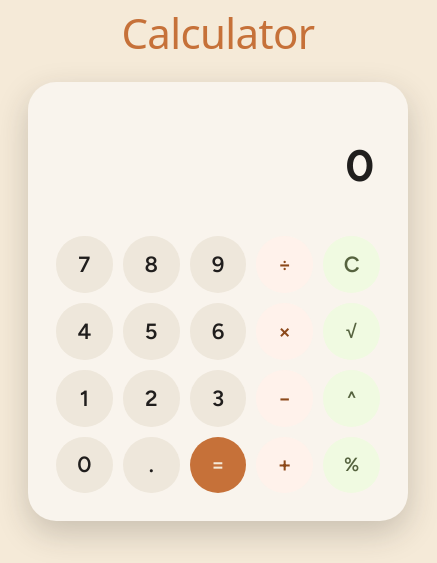
pending-expression line › shows the left operand and operator while a binary operation is pending
Click the button "1" at (84, 398), box [56, 370, 113, 426]
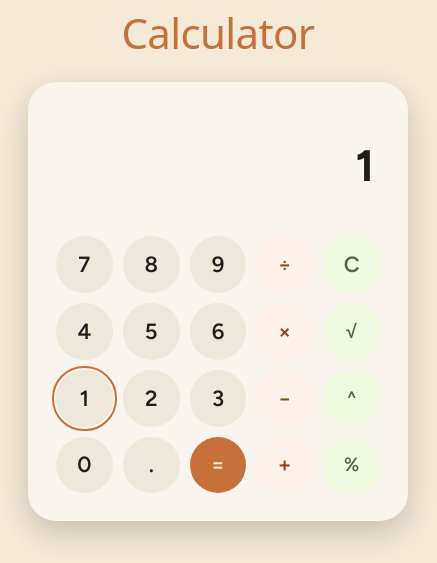
Click the button "2" at (151, 398), box [123, 370, 180, 426]
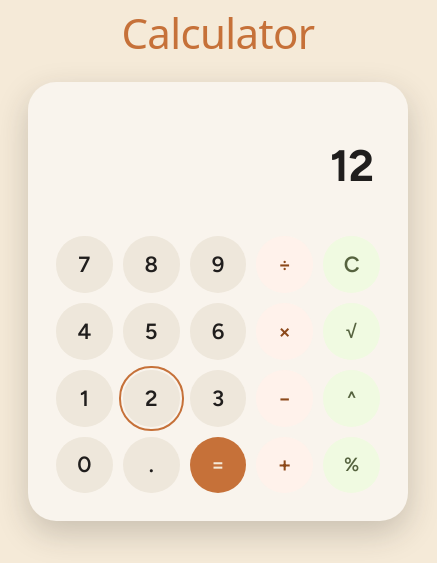
Click the button named "add" at (285, 465), box [256, 436, 313, 493]
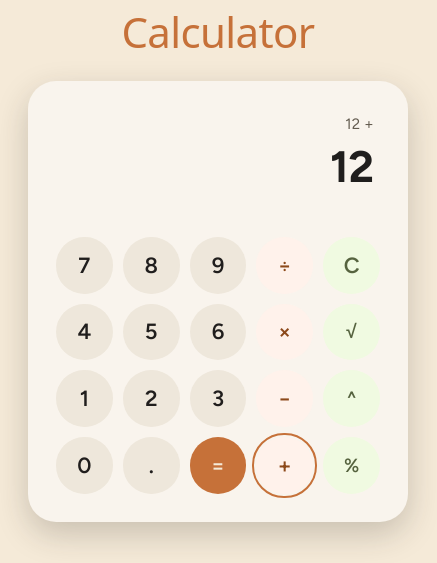
Expected: the text "12 +" is shown, [345, 116, 374, 134]
